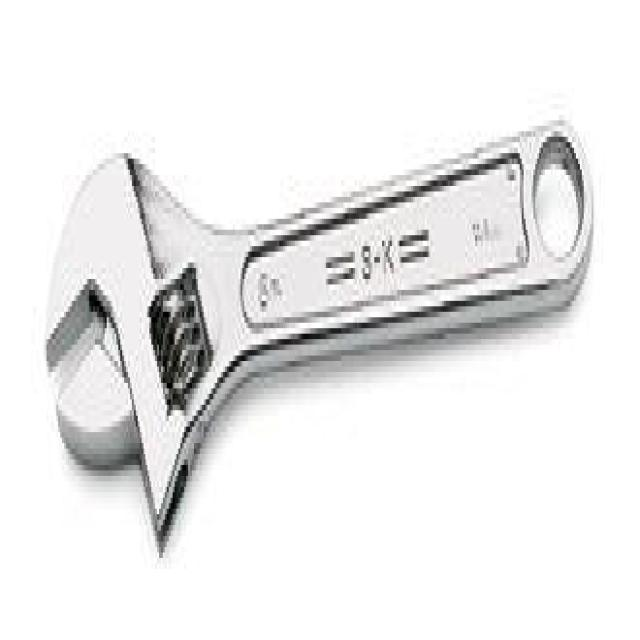wrench: (15, 72, 615, 565)
